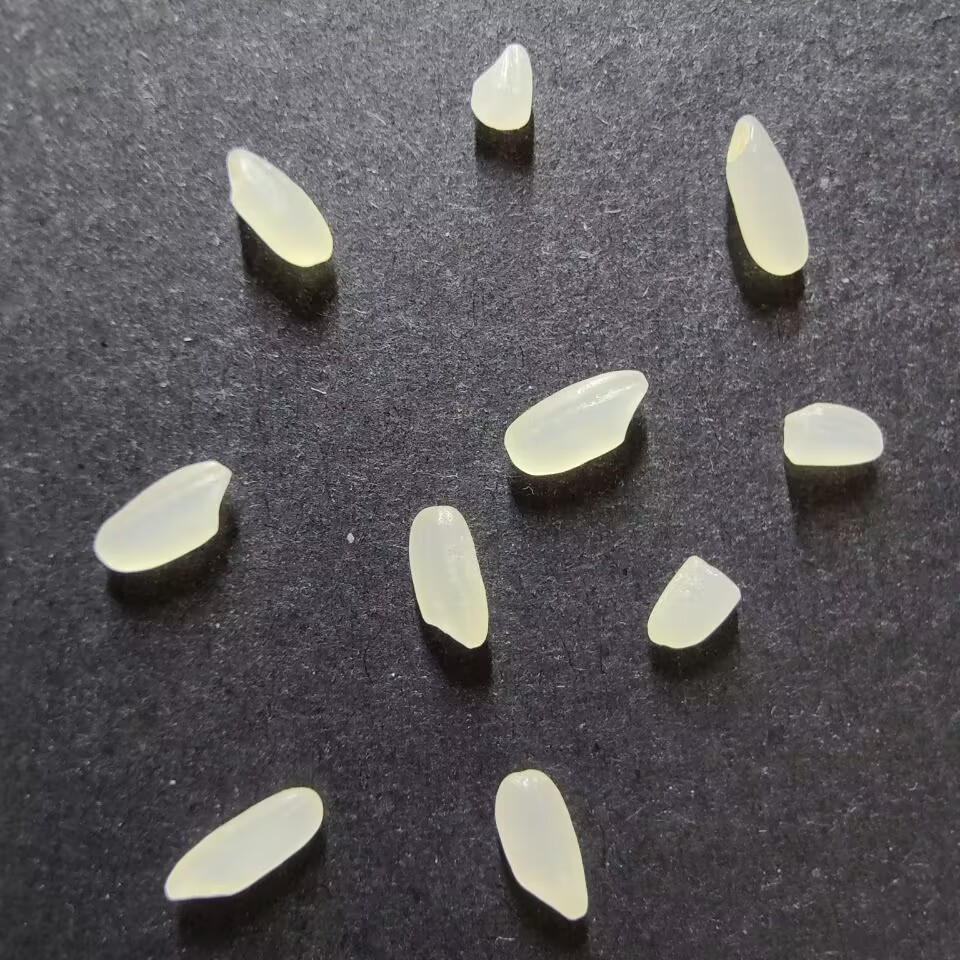broken: (646, 554, 741, 648), (782, 402, 883, 467), (469, 43, 533, 131)
rice: (162, 785, 325, 901), (93, 460, 232, 573), (502, 369, 648, 476), (493, 769, 588, 920), (724, 114, 808, 277), (225, 147, 333, 267), (407, 505, 489, 648)
